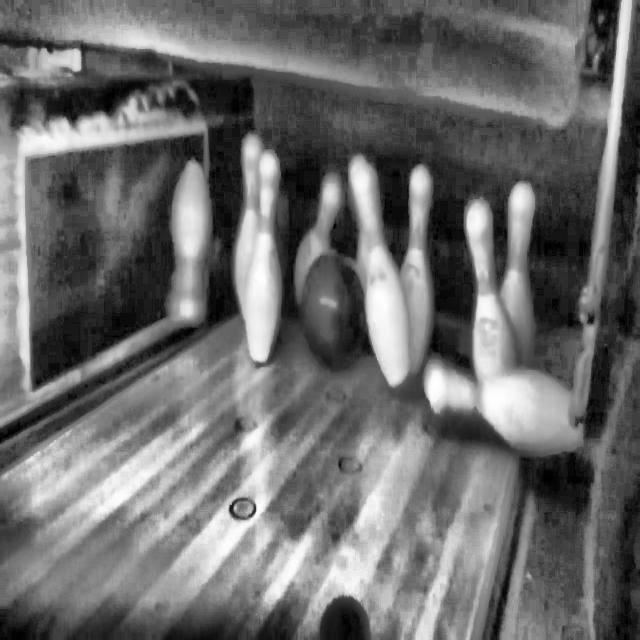bowling-ball: (300, 252, 366, 367)
bowling-pins: (244, 150, 282, 362), (401, 165, 433, 375), (234, 134, 261, 318)
